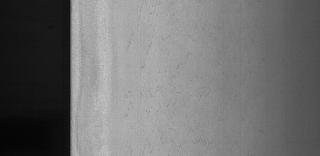silk spot: (115, 7, 217, 142)
